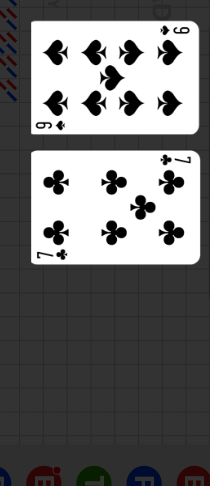7C: (35, 247, 70, 262)
9S: (157, 24, 191, 37)
